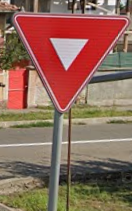cedeaza: (11, 12, 132, 117)
